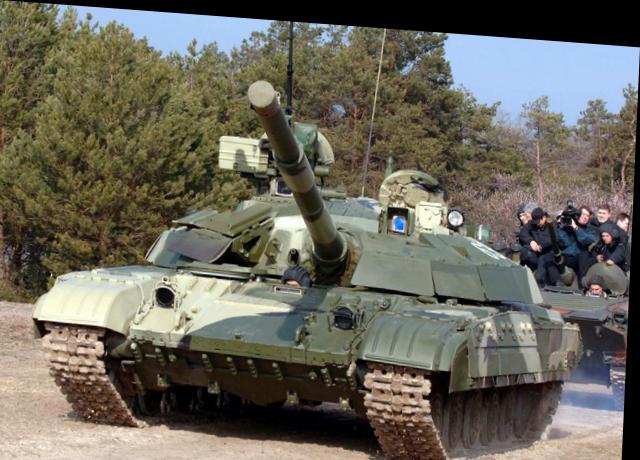other: (558, 195, 594, 265), (523, 200, 557, 272), (594, 217, 628, 259), (590, 264, 609, 284), (595, 193, 613, 213), (616, 202, 631, 224), (518, 197, 528, 213), (526, 192, 534, 209)
tank: (45, 199, 548, 444)
